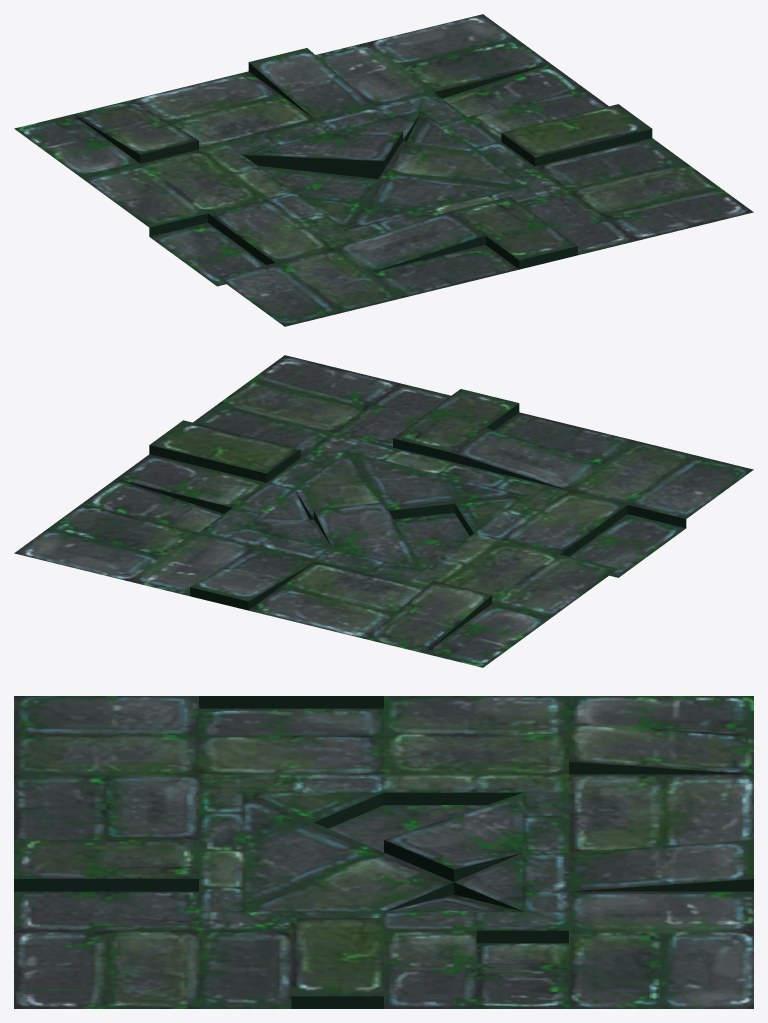
File: stemple_floor_blank_01_f.fbx
3 renders of one model, top to bottom at view 1: azimuth 30°, elevation 25°; view 2: azimuth 150°, elevation 25°; view 3: azimuth 270°, elevation 25°, orthographic. The views are drawn at different scales.
Parts seen in each view (by area): view 1: obj1.006; view 2: obj1.006; view 3: obj1.006.
Boxes of the visible parts, <box> form: obj1.006: <box>14,14,753,326</box>; obj1.006: <box>14,355,753,667</box>; obj1.006: <box>14,696,753,1008</box>.
Bounding box in the file's own units: 4 × 0.15 × 4.
